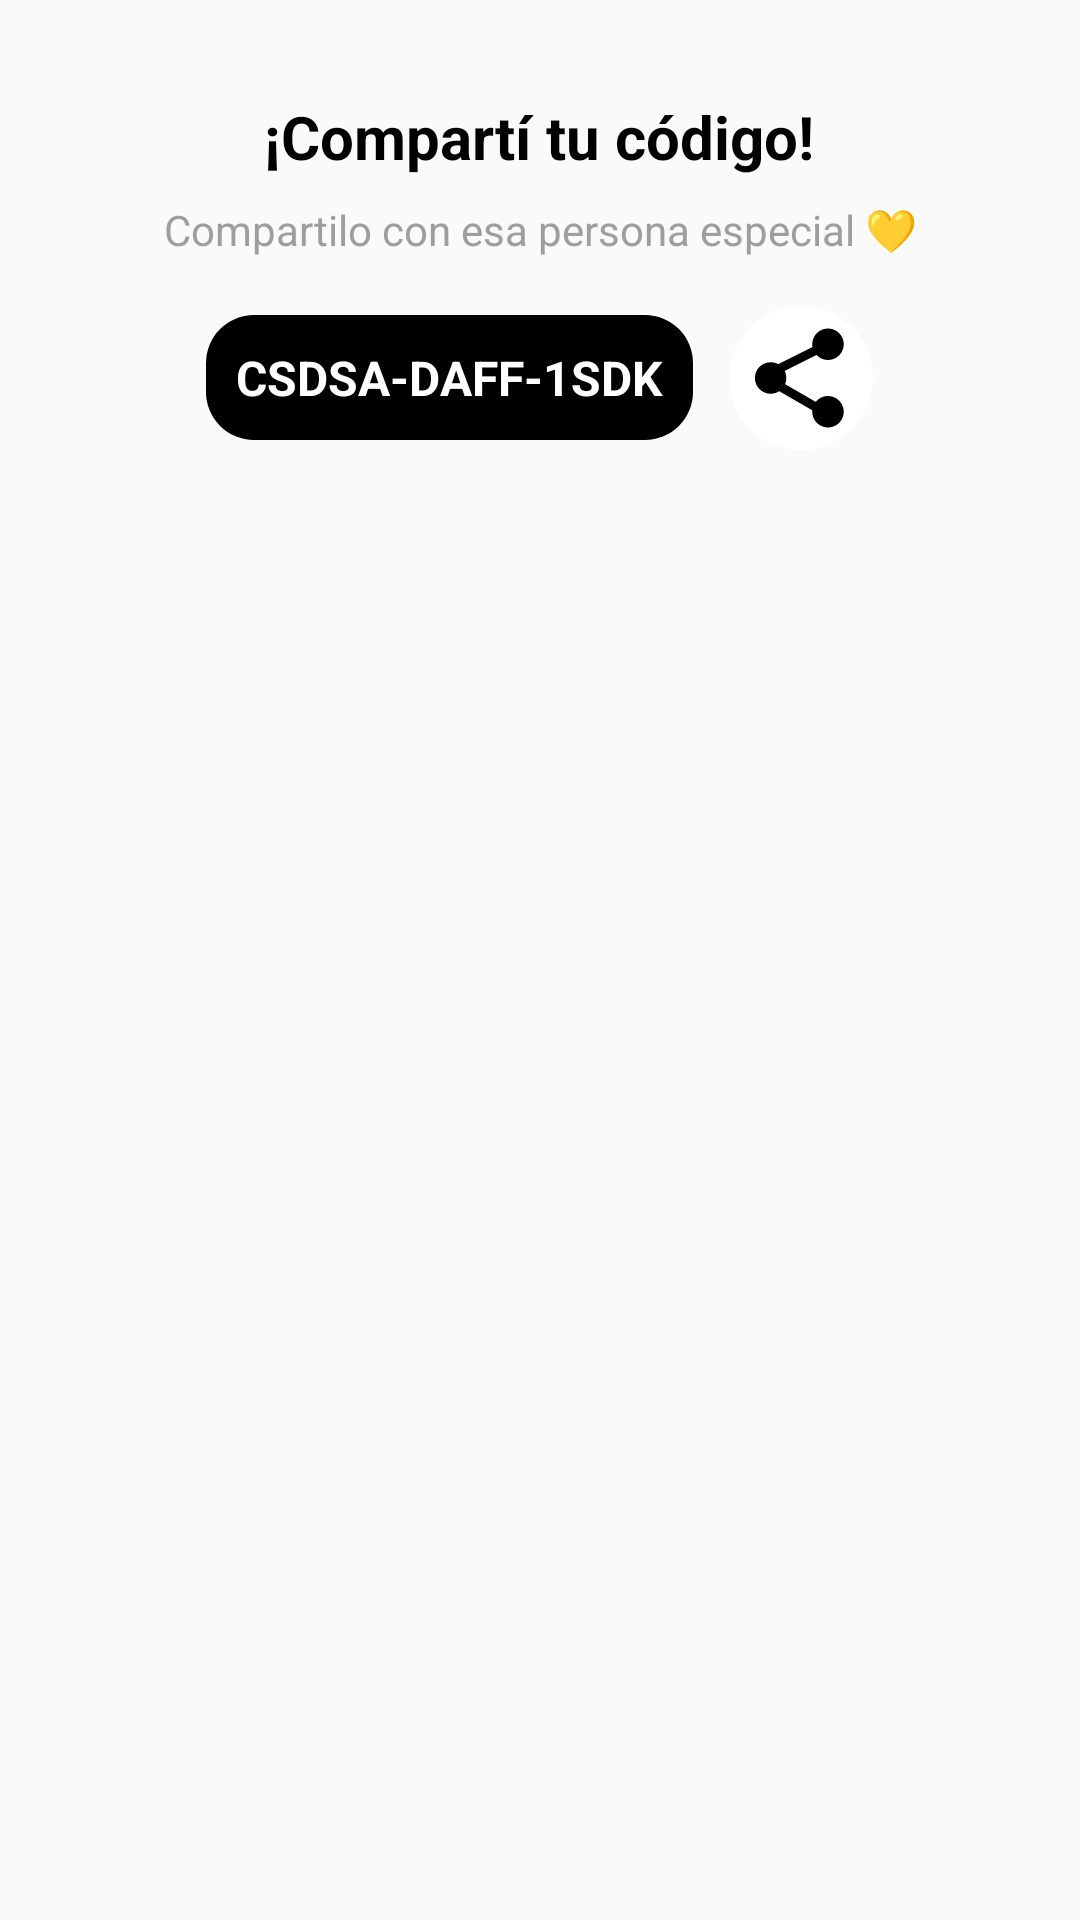

Locate icon controls on the screen. Image size 1080px x 1920px, boxes as [x1=x1, y1=y1, x2=x2, y2=y2].
Compartir: [x1=755, y1=328, x2=844, y2=428]
